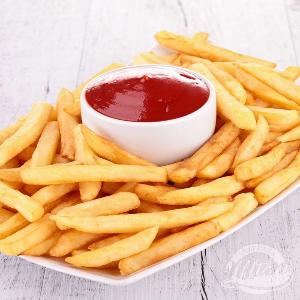fries_350cal: (16, 35, 300, 263)
